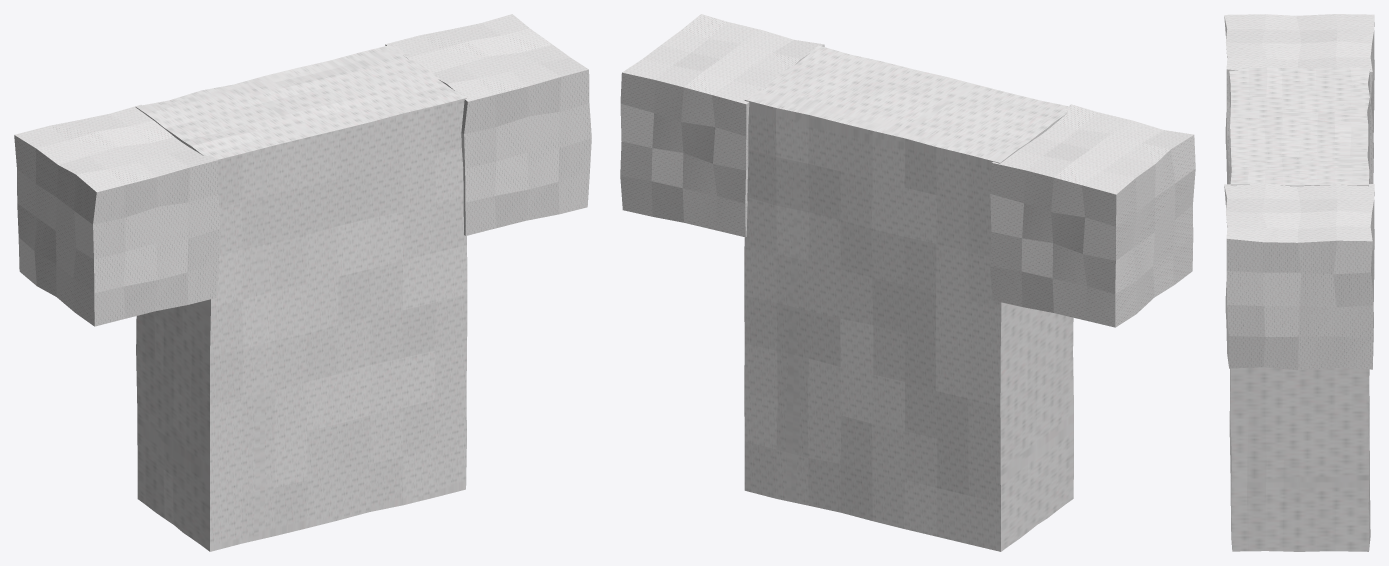
3 renders of one model, left to right at view 1: azimuth 30°, elevation 25°; view 2: azimuth 150°, elevation 25°; view 3: azimuth 270°, elevation 25°, orthographic. The views are drawn at different scales.
Visible parts, largest first — view 1: body, armRight, armLeft; view 2: body, armRight, armLeft; view 3: body, armLeft, armRight.
Boxes of the visible parts, box(x1,y1,x2,y2) form: body: box(135, 44, 467, 551); armRight: box(14, 104, 220, 326); armLeft: box(385, 14, 591, 235); body: box(744, 45, 1073, 551); armRight: box(990, 104, 1195, 327); armLeft: box(620, 14, 824, 237); body: box(1229, 67, 1370, 551); armLeft: box(1224, 183, 1374, 370); armRight: box(1224, 14, 1374, 184).
Size of the model in its own units: 1.03 by 0.7708 by 0.2856.
1 material, 1 textured.
